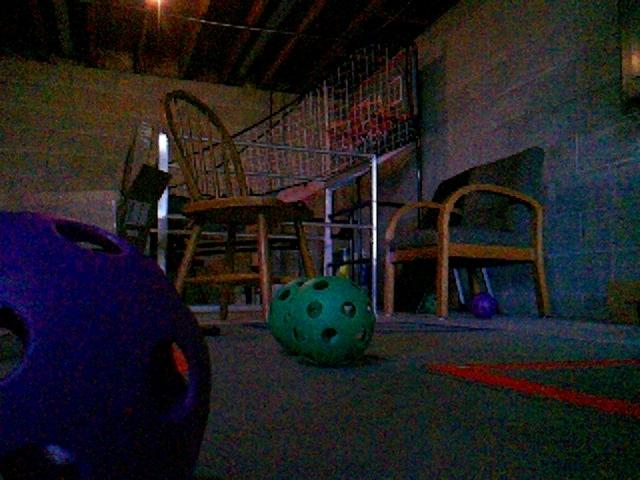Green: (290, 274, 375, 364), (270, 274, 311, 358), (418, 291, 437, 313)
Purple: (0, 214, 213, 480), (468, 290, 500, 320)
